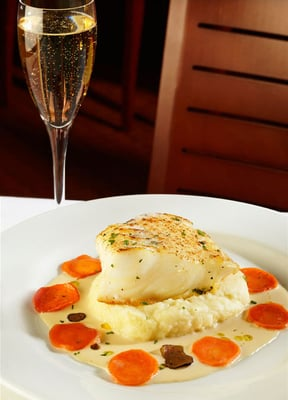curry: (1, 194, 288, 400)
sandwich: (17, 0, 98, 205)
